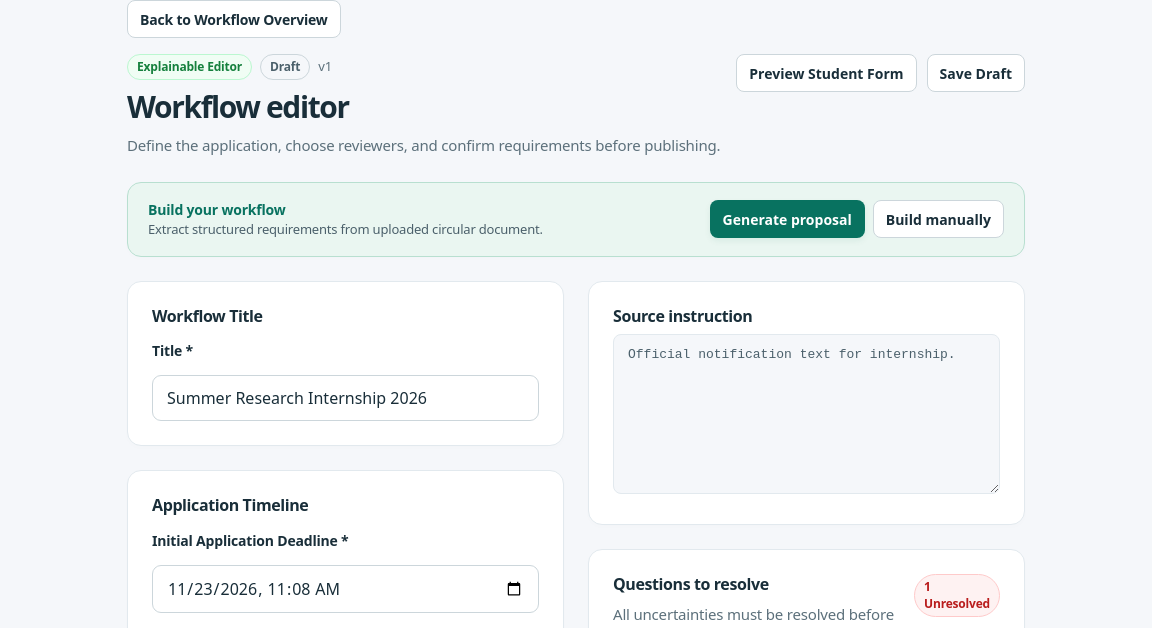
Test case: P-006 Explainable Workflow Editor and Elements (T-A11Y-P006, EL-030..EL-044) › regenerates a proposal with the current version and shows a form preview
Click the button with test id "EL-030": (787, 219) top-left (710, 200), bottom-right (865, 238)
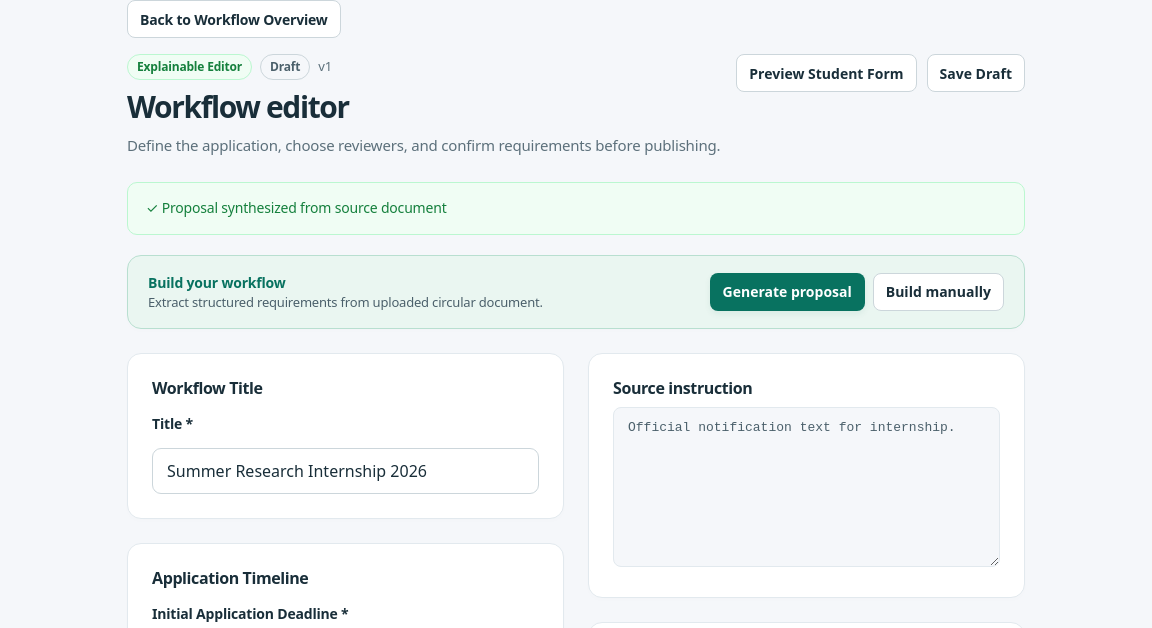
Click the button with test id "EL-043": (826, 73) top-left (736, 54), bottom-right (916, 92)
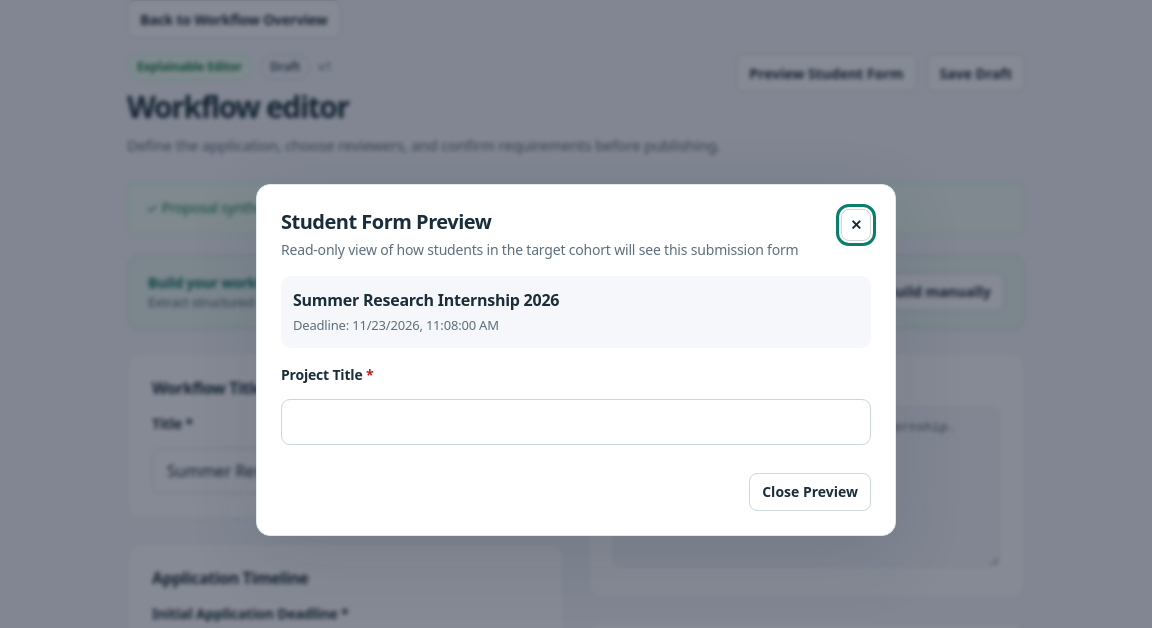
Expected: the dialog is shown, top-left (256, 184), bottom-right (896, 536)
Click the button "Close Preview": (810, 492) top-left (749, 473), bottom-right (871, 511)
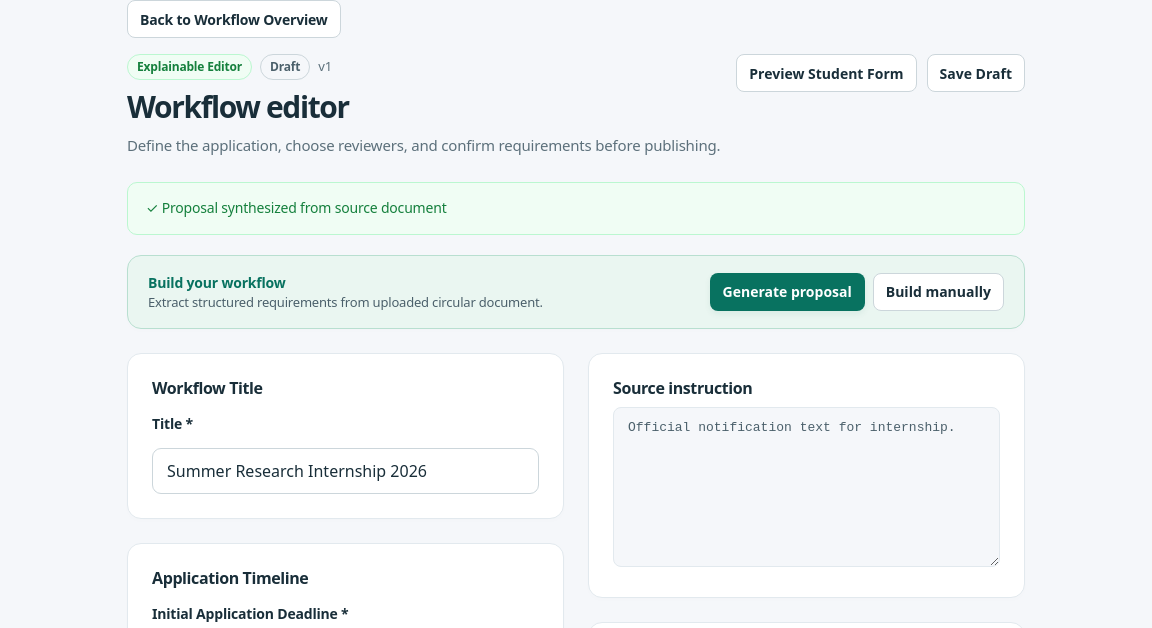
Expected: the dialog is gone
Click the button with test id "EL-031": (938, 292) top-left (873, 273), bottom-right (1004, 311)
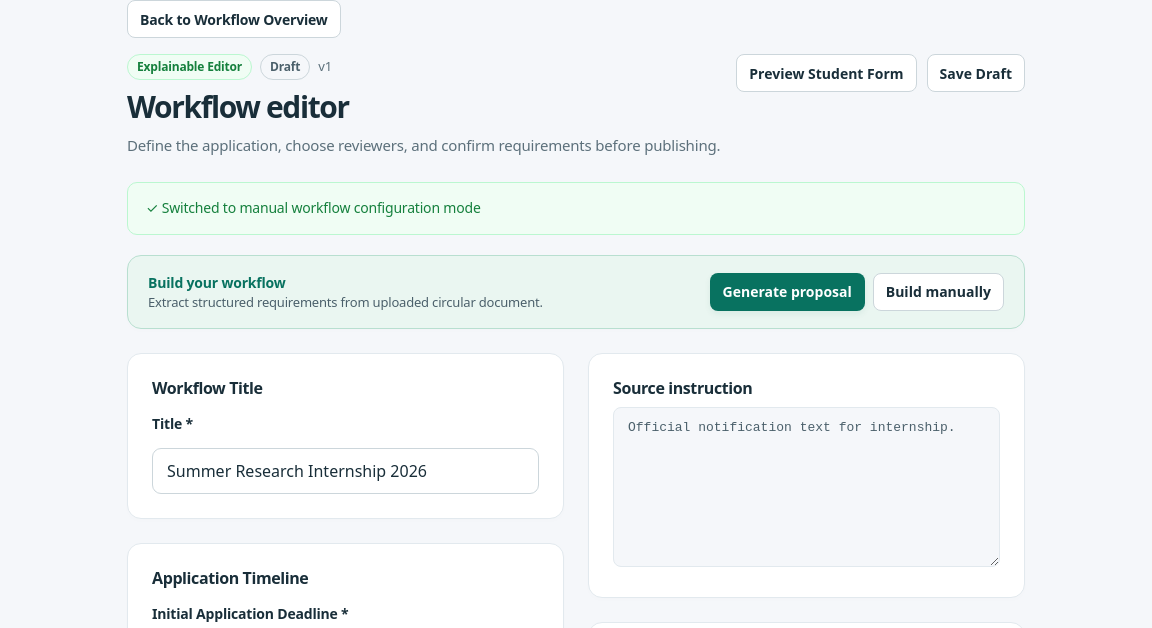
Expected: the text "✓ Switched to manual workflow configuration mode" is shown, top-left (146, 197), bottom-right (481, 220)
